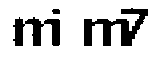7: (124, 8, 151, 51)
i: (51, 6, 63, 51)
m: (74, 17, 129, 49), (9, 17, 57, 52)
